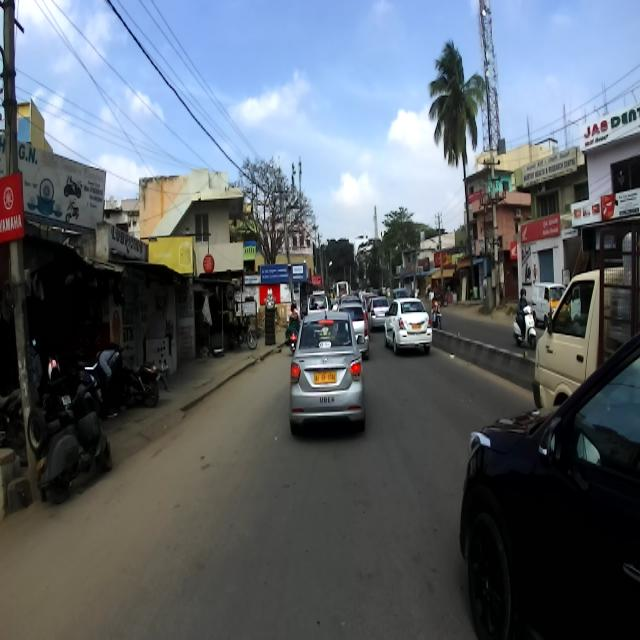car ahead at: (460, 335, 640, 640), (282, 310, 366, 439), (382, 292, 435, 362)
footpath on: (72, 426, 72, 434)
motorcycle ahead at: (28, 383, 121, 524)
